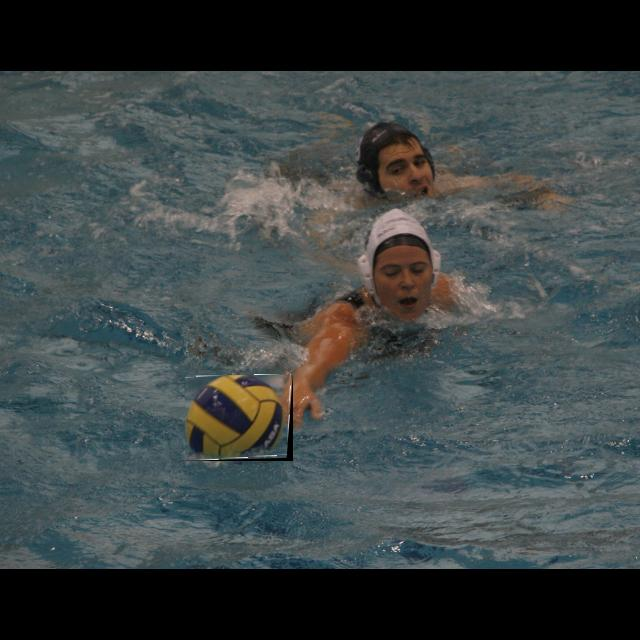Football: (185, 375, 293, 461)
